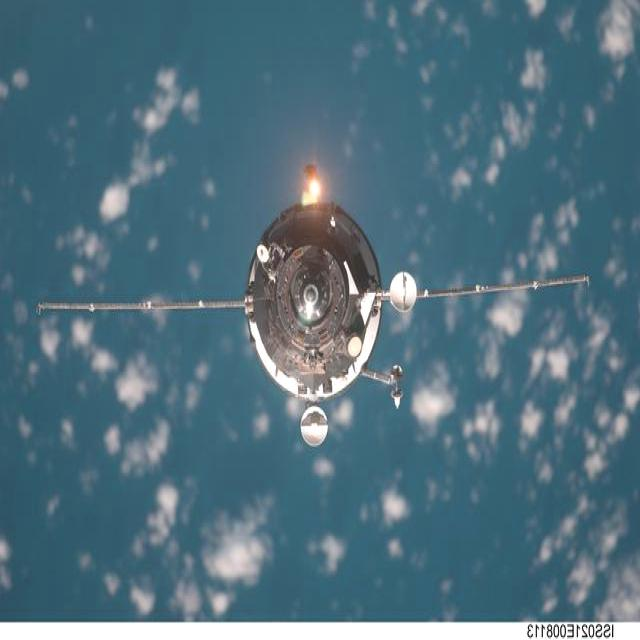medium_debris: (36, 167, 589, 446)
